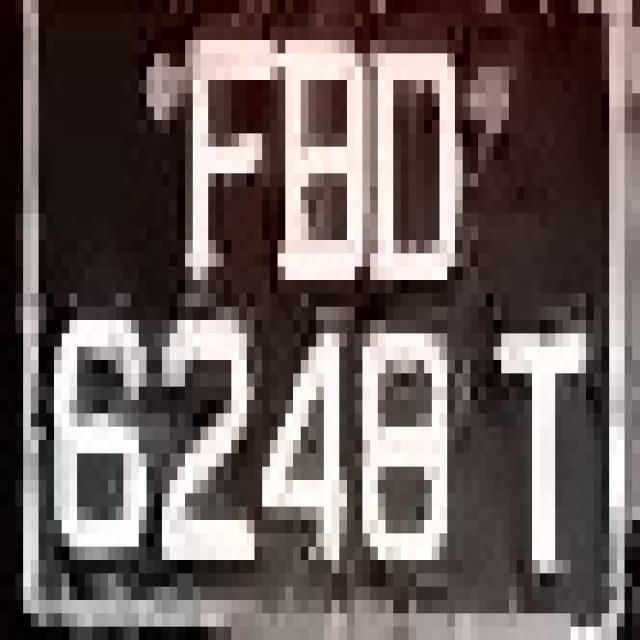2: (146, 293, 270, 600)
4: (239, 280, 362, 573)
6: (46, 254, 178, 574)
8: (347, 294, 463, 574)
B: (270, 27, 385, 293)
D: (355, 53, 470, 307)
F: (154, 0, 270, 320)
T: (478, 293, 594, 600)
